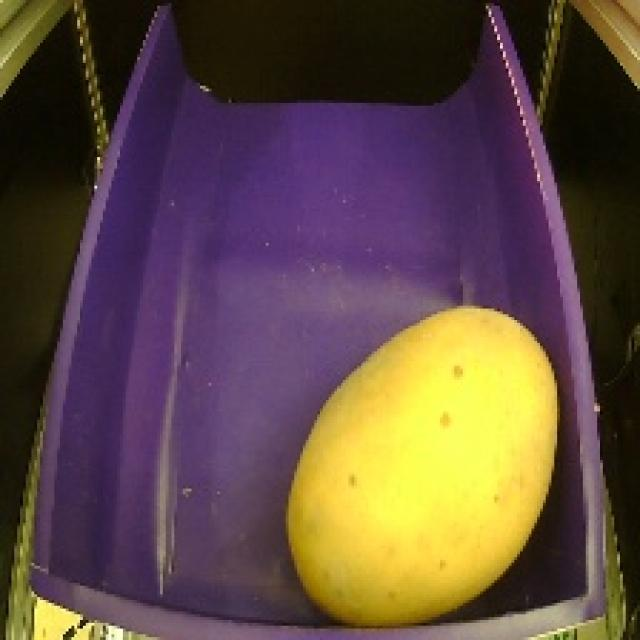full_potato: (275, 292, 569, 632)
